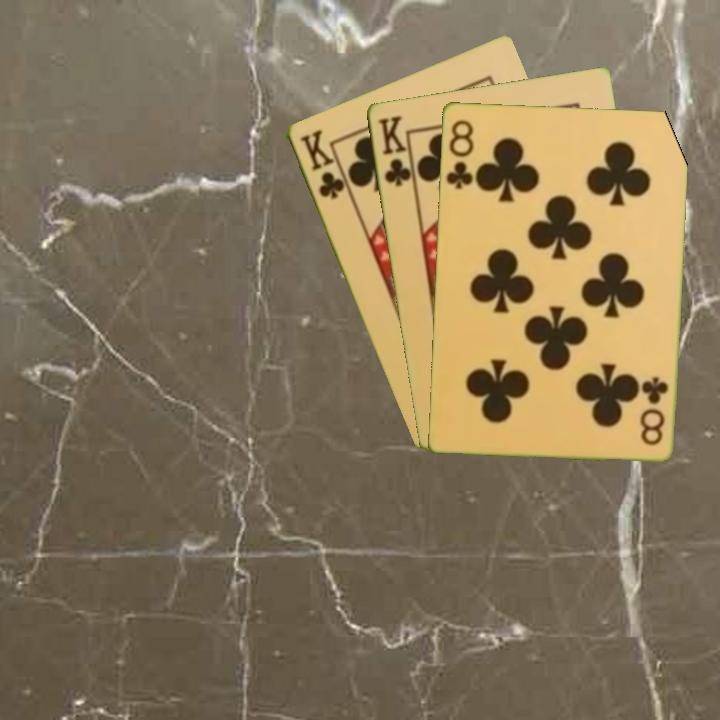8c: (442, 116, 476, 192), (637, 373, 671, 448)
Kc: (295, 126, 347, 202), (375, 112, 416, 192)
